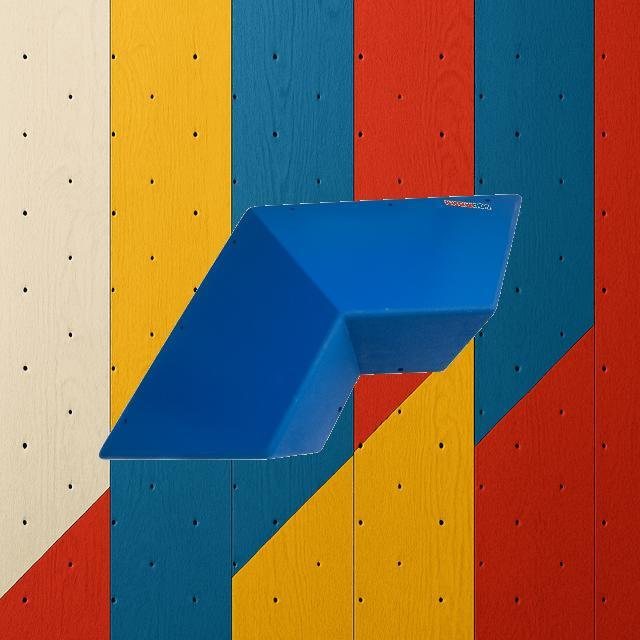Volume: (95, 193, 522, 462)
